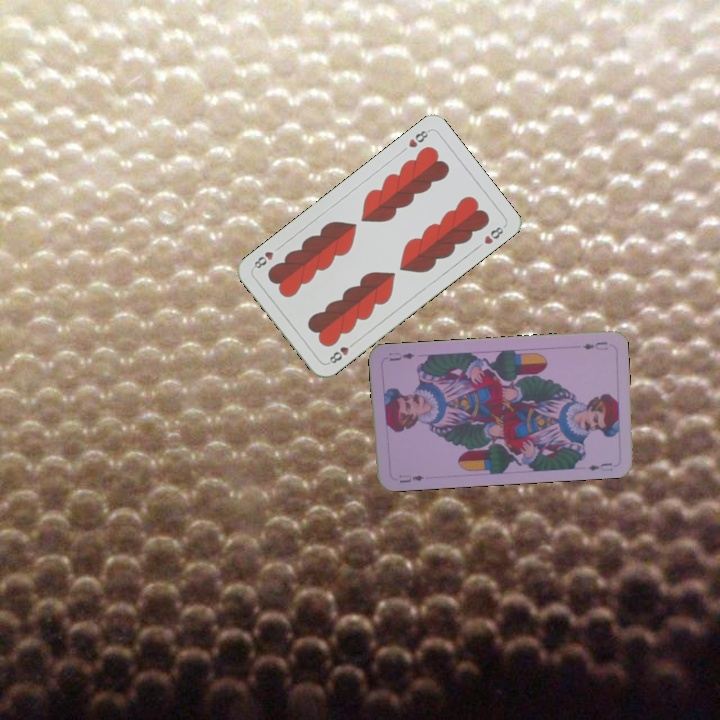EU: (395, 470, 426, 485), (579, 338, 610, 353)
H8: (324, 337, 358, 366), (404, 126, 433, 150)
